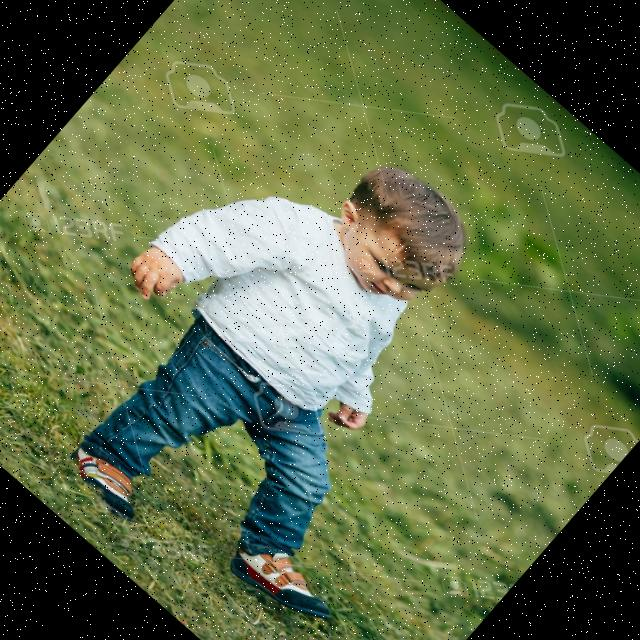Person: (4, 74, 587, 640)
